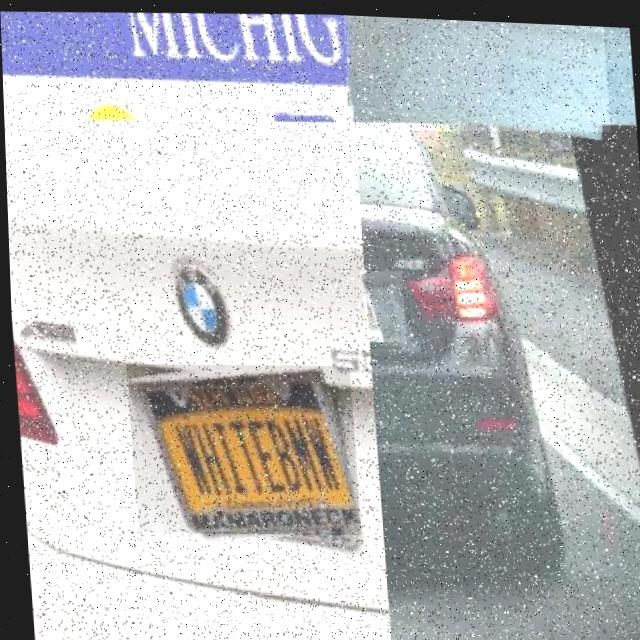LicensePlate: (124, 362, 356, 531), (342, 12, 609, 135), (360, 266, 403, 339)
